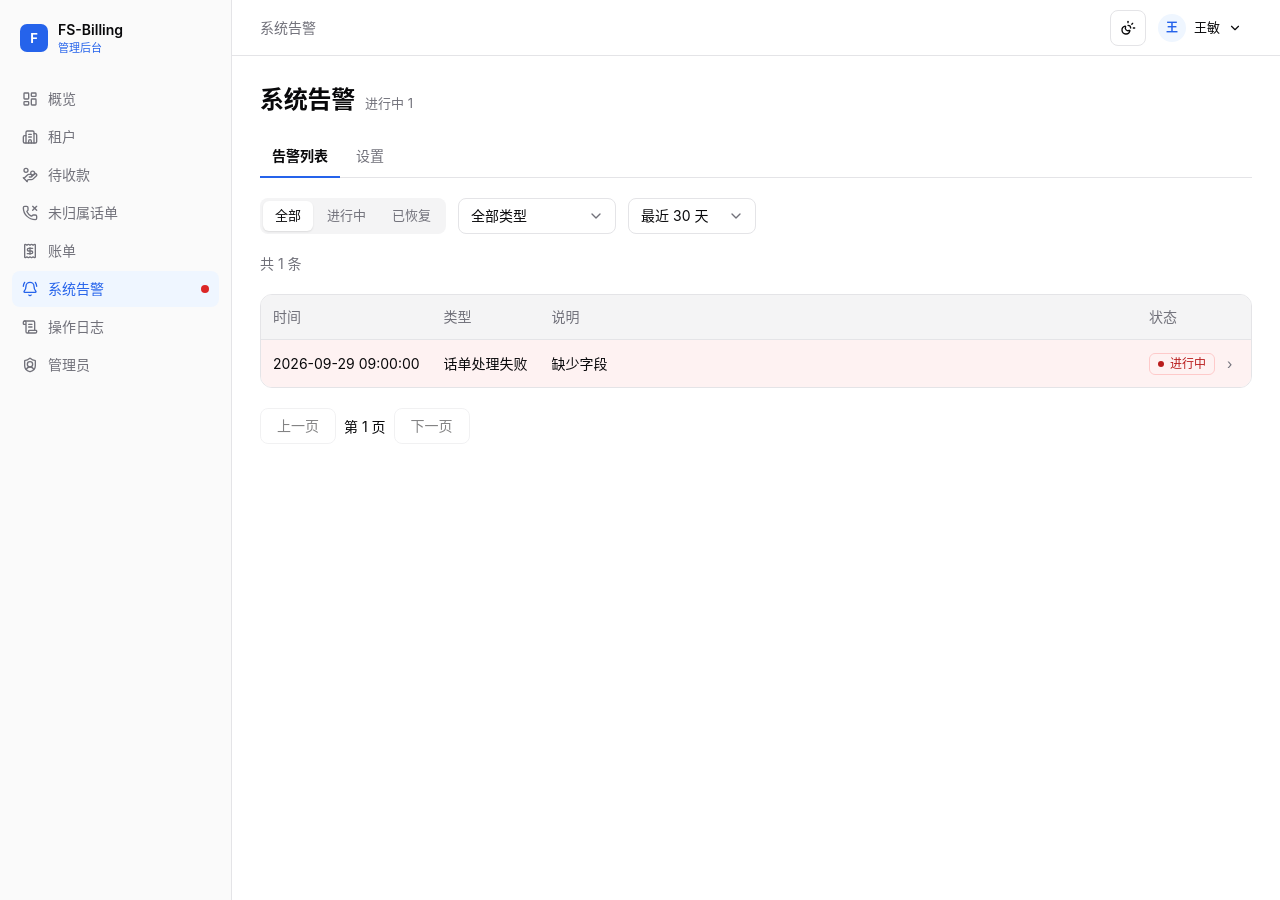
Test: expands alert details and links to the matching unassigned reason
Expected: the element named "有进行中的告警" is shown, [201,284,209,292]
Click the button "2026-09-29 09:00:00" at (346, 364), box [273,354,420,374]
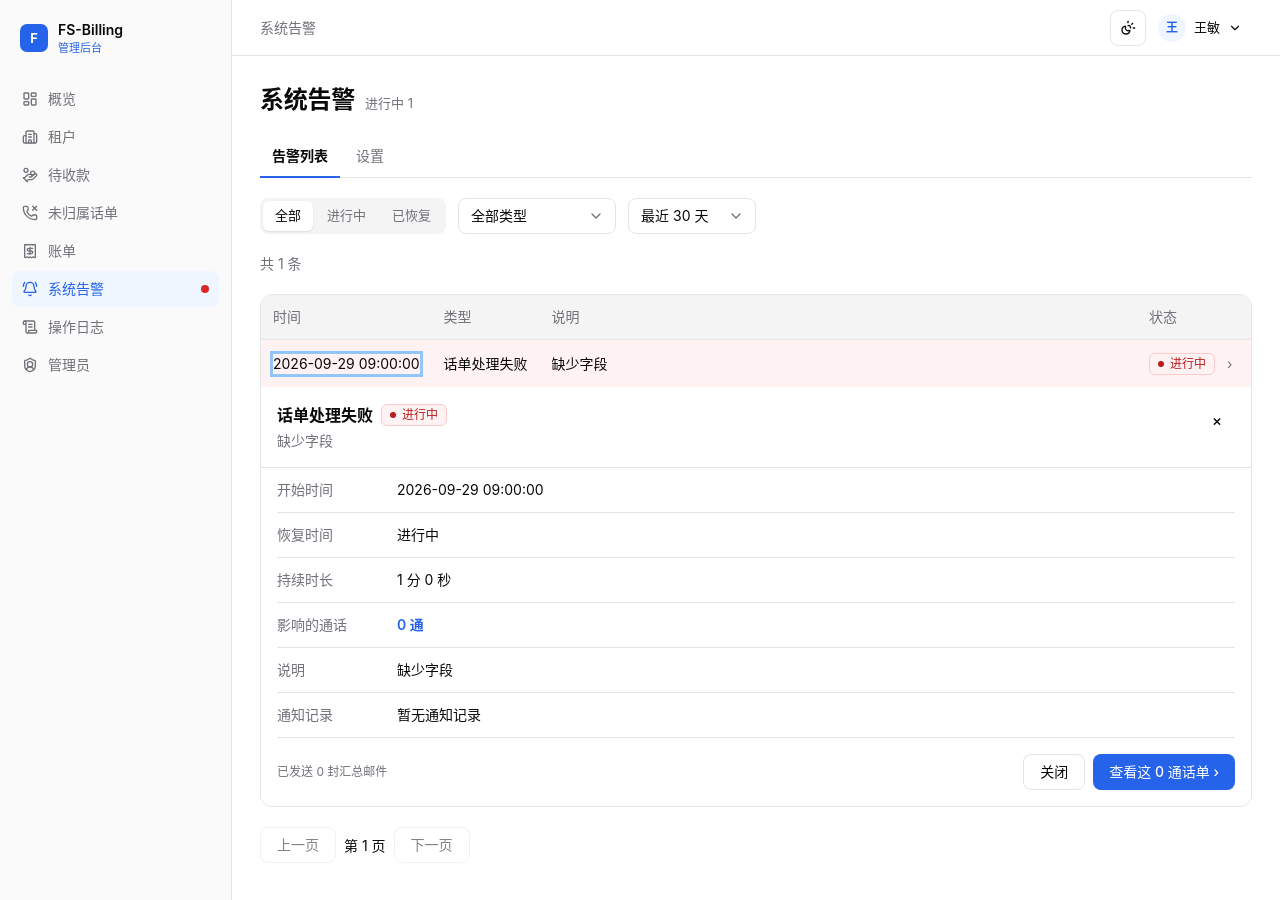
Expected: the text "暂无通知记录" is shown, [397,693,1235,738]
